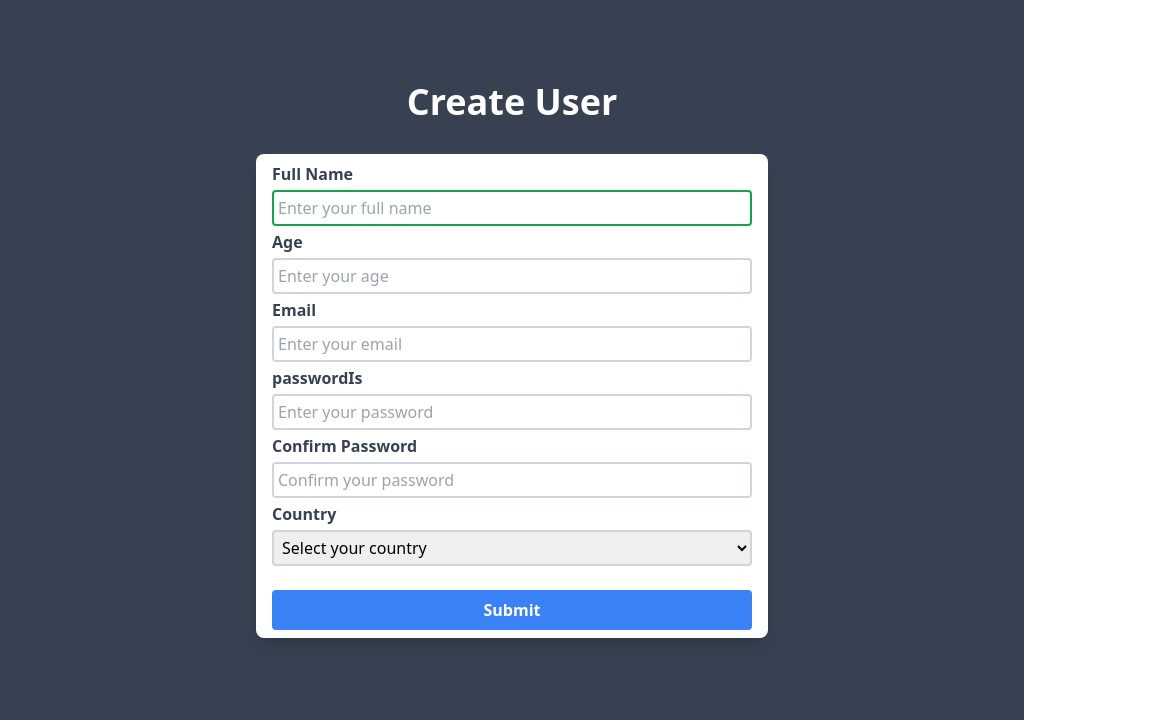
Test: Form Component › should display 'passwords do not match' error if passwords are different
Type "password123" into the password field labelled "passwordIs" at (512, 412), box left=272, top=394, right=752, bottom=430
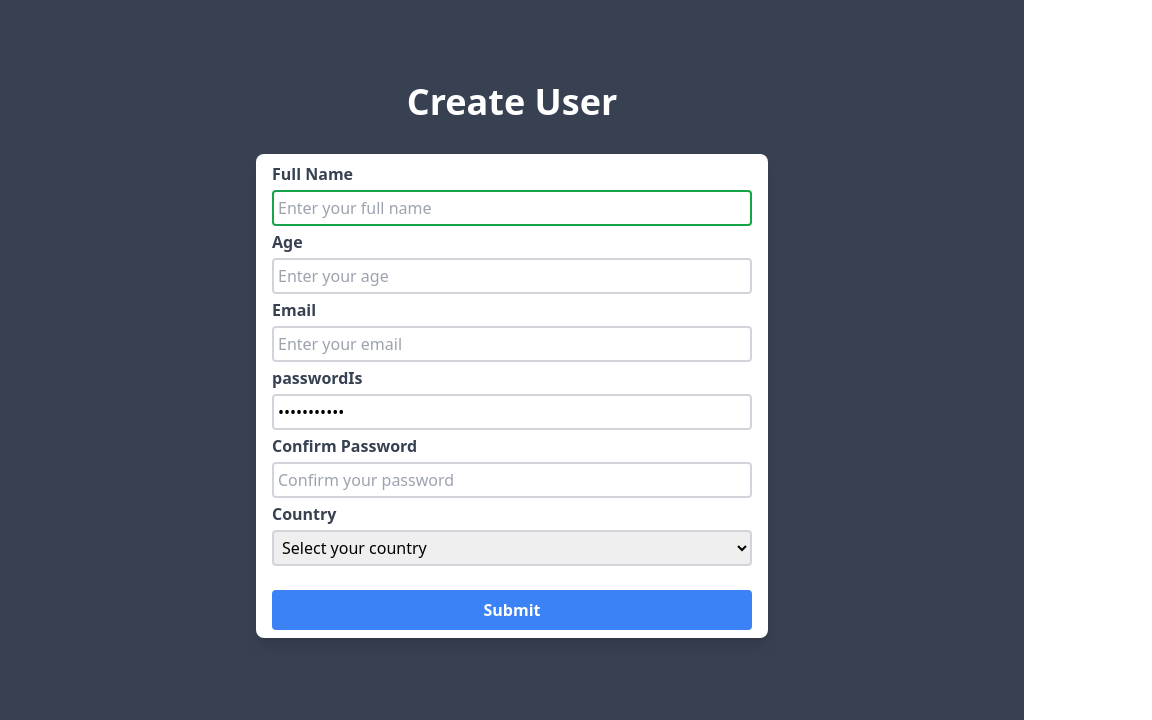
Type "differentPassword" into the password field labelled "Confirm Password" at (512, 480), box left=272, top=462, right=752, bottom=498
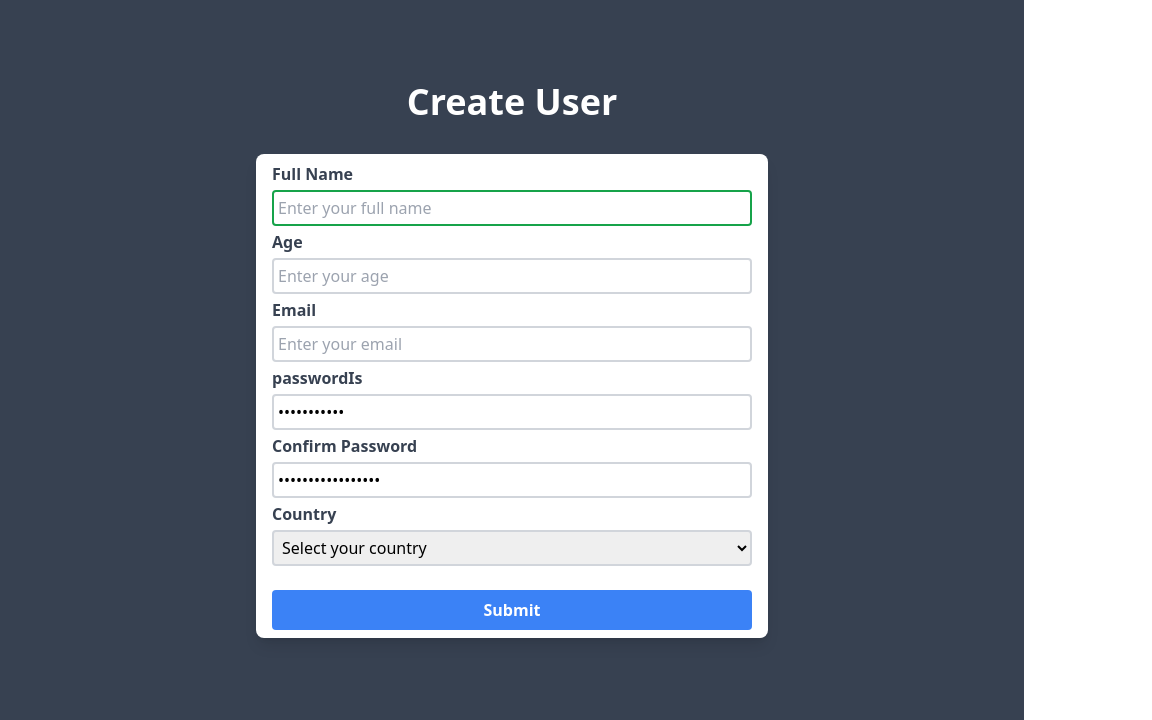
Click the button "Submit" at (512, 610), box left=272, top=590, right=752, bottom=630
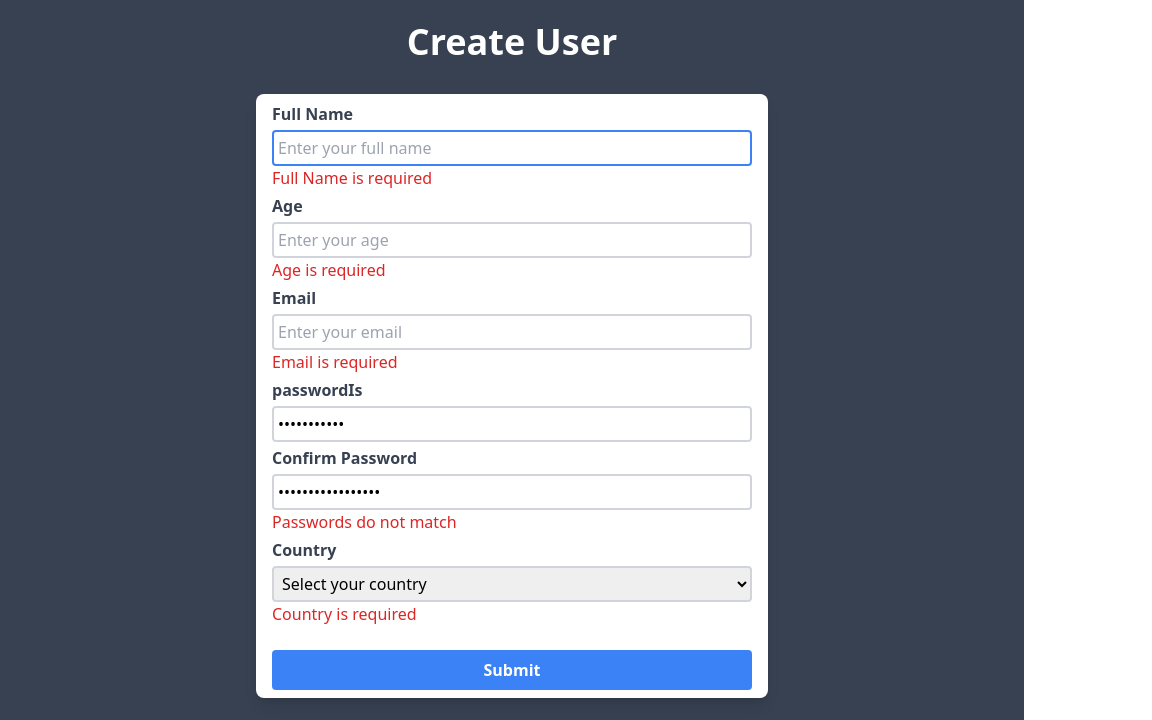
Result: the text "Passwords do not match" is shown at left=272, top=511, right=457, bottom=533
